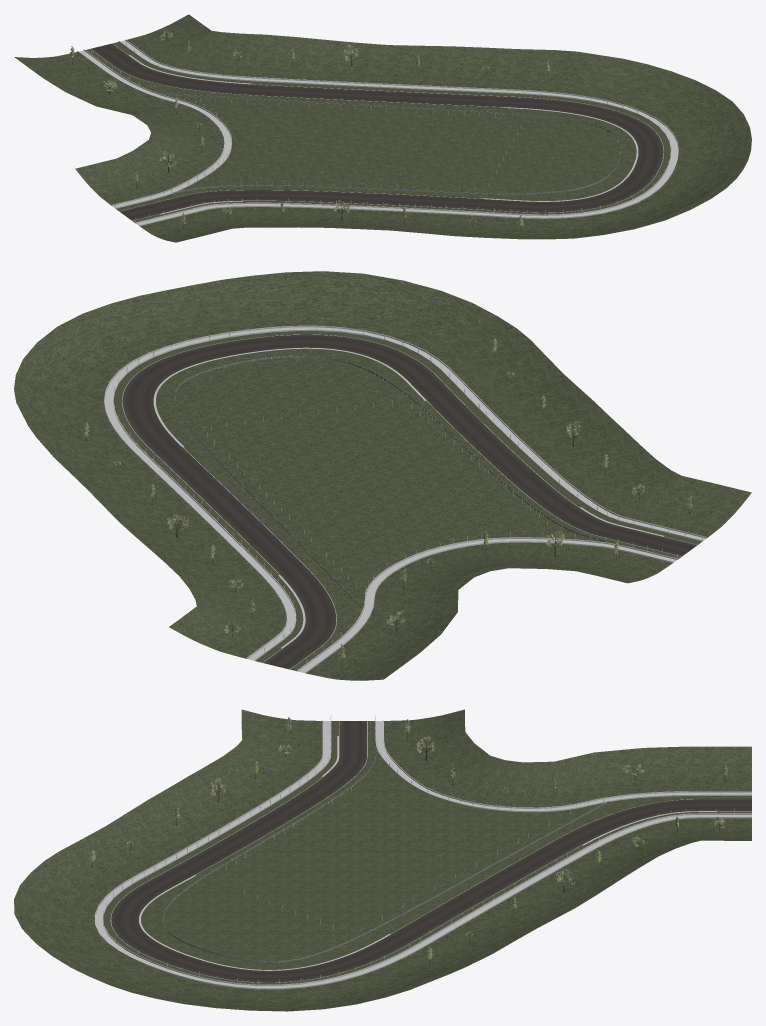
3 renders of one model, top to bottom at view 1: azimuth 30°, elevation 25°; view 2: azimuth 150°, elevation 25°; view 3: azimuth 270°, elevation 25°, orthographic. The views are drawn at different scales.
Parts seen in each view (by area): view 1: Grass, Road, Track, Wirefence, Trees; view 2: Grass, Road, Track, Trees, Wirefence; view 3: Grass, Road, Track, Trees, Wirefence.
Boxes of the visible parts, <box> form: Grass: <box>14,14,751,242</box>; Road: <box>91,43,663,220</box>; Track: <box>77,39,678,226</box>; Wirefence: <box>160,93,620,194</box>; Trees: <box>69,30,550,232</box>; Grass: <box>14,271,751,680</box>; Road: <box>122,334,697,669</box>; Track: <box>104,325,706,673</box>; Trees: <box>82,336,692,666</box>; Wirefence: <box>175,355,605,608</box>; Grass: <box>14,709,751,1011</box>; Road: <box>111,721,751,982</box>; Track: <box>94,715,751,989</box>; Trees: <box>88,717,727,964</box>; Wirefence: <box>163,751,608,962</box>.
Size of the model in its own units: 44889 by 1923 by 46272.
